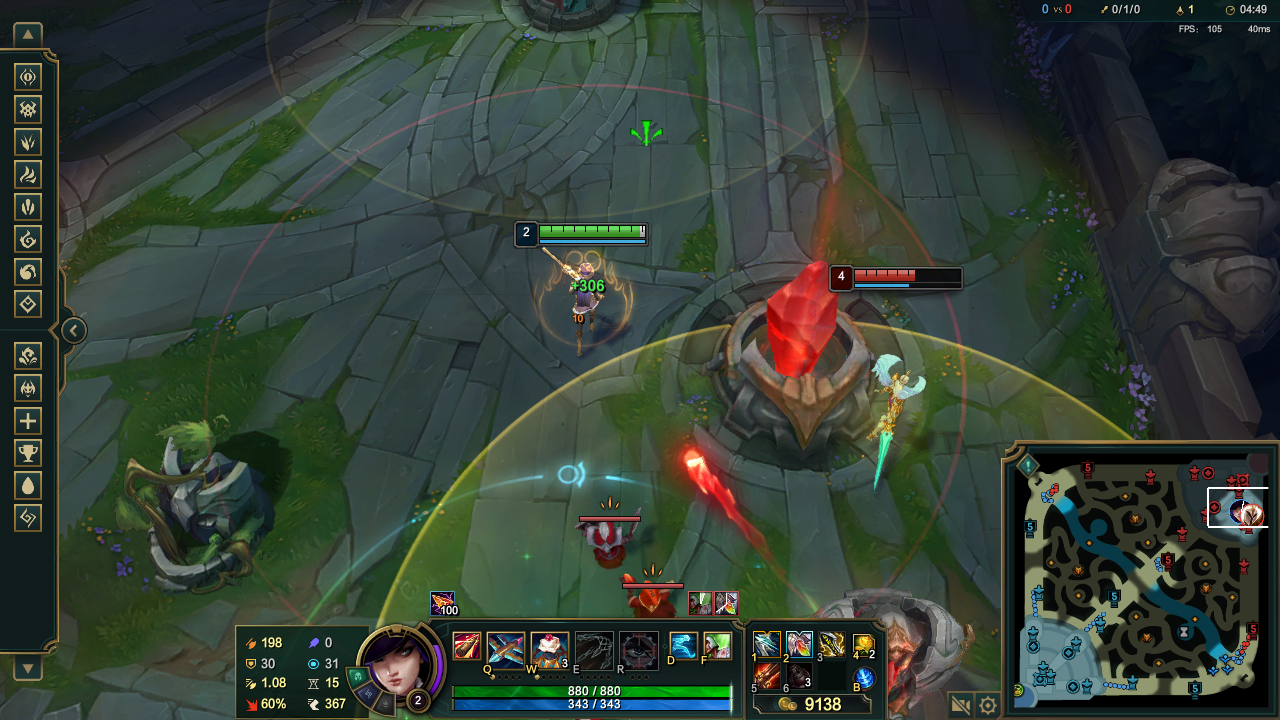DFSJ: (707, 254, 870, 443)
DFYX: (850, 270, 964, 283)
